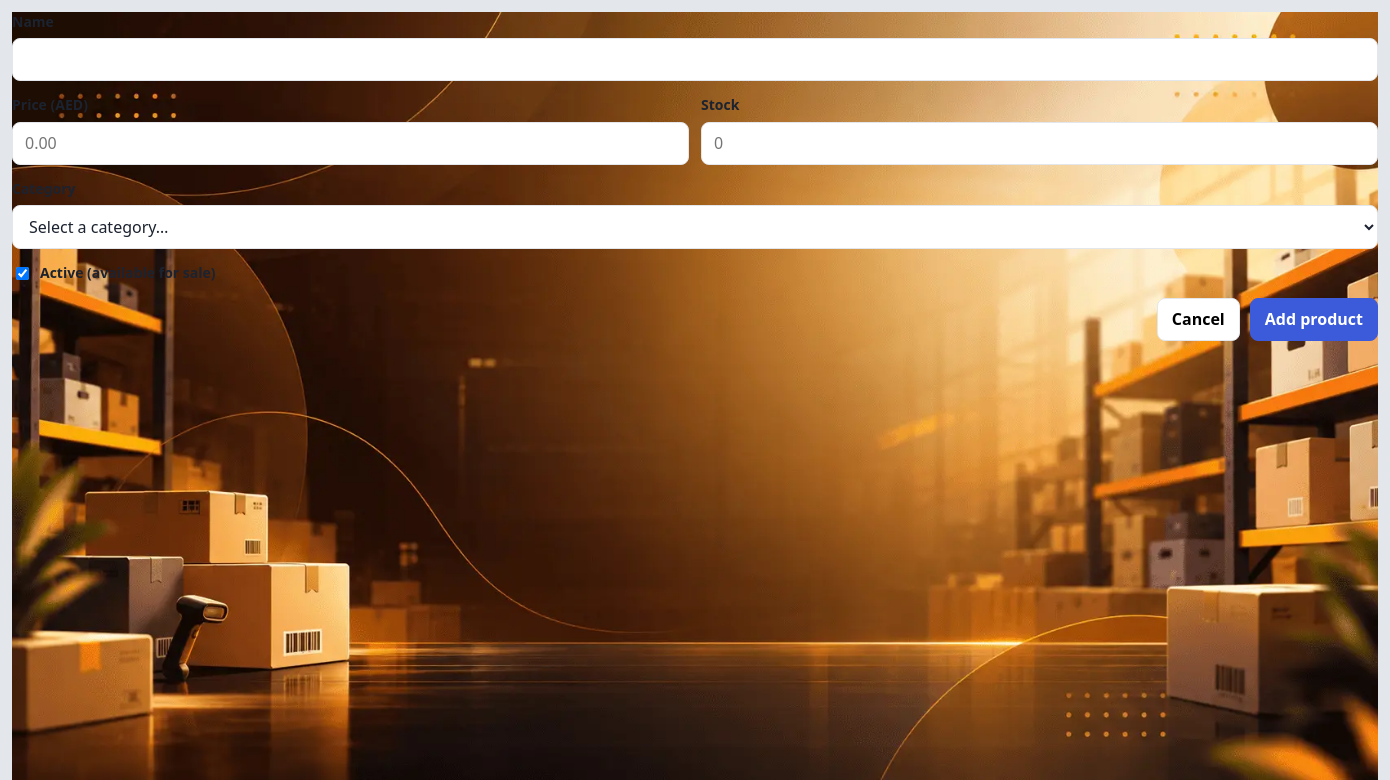
ProductForm › shows a general error when the network fails
The width and height of the screenshot is (1390, 780).
Type "Thing" into the field labelled "Name". click: point(695, 60)
box: [12,38,1378,82]
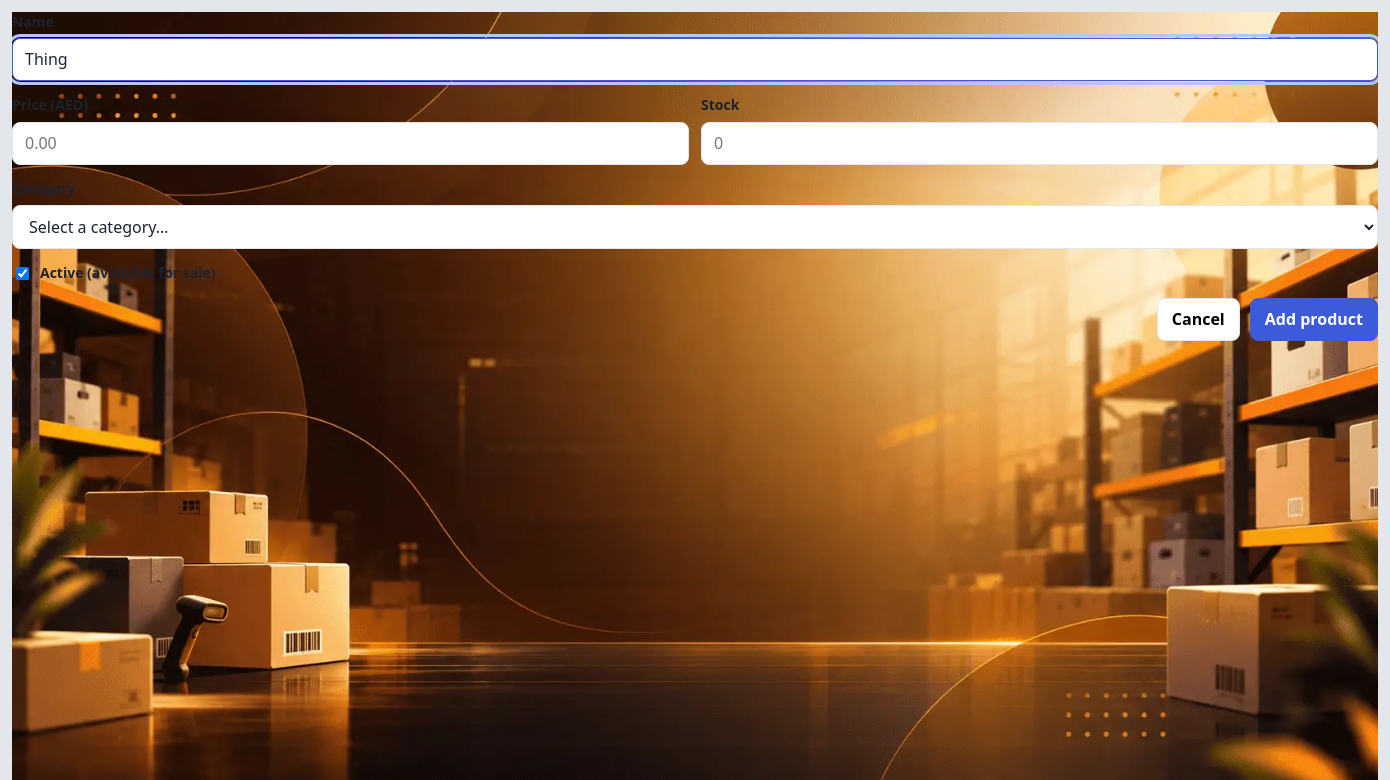
Type "5" into the field labelled "Price (AED)". click: point(350, 143)
box: [12,122,689,165]
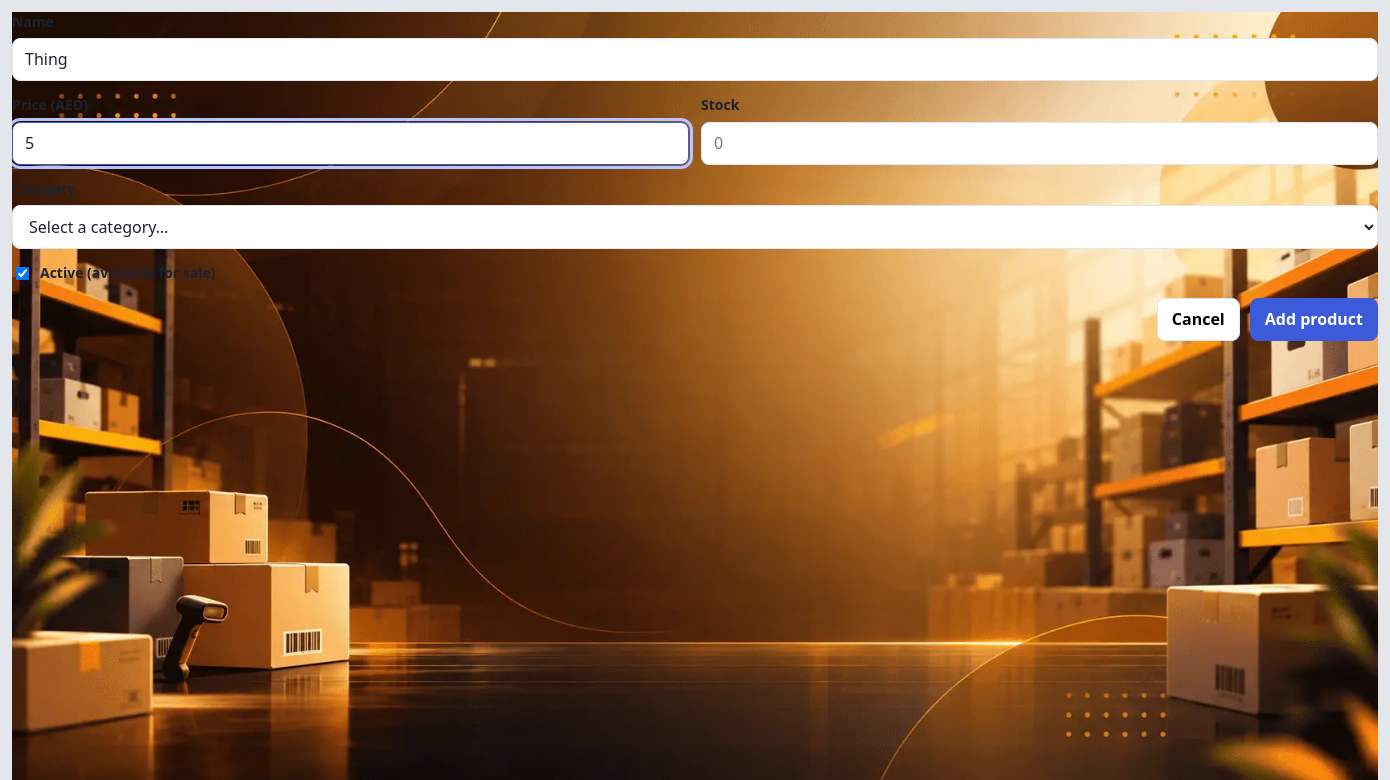
Type "1" into the field labelled "Stock". click: point(1040, 143)
box: [701,122,1378,165]
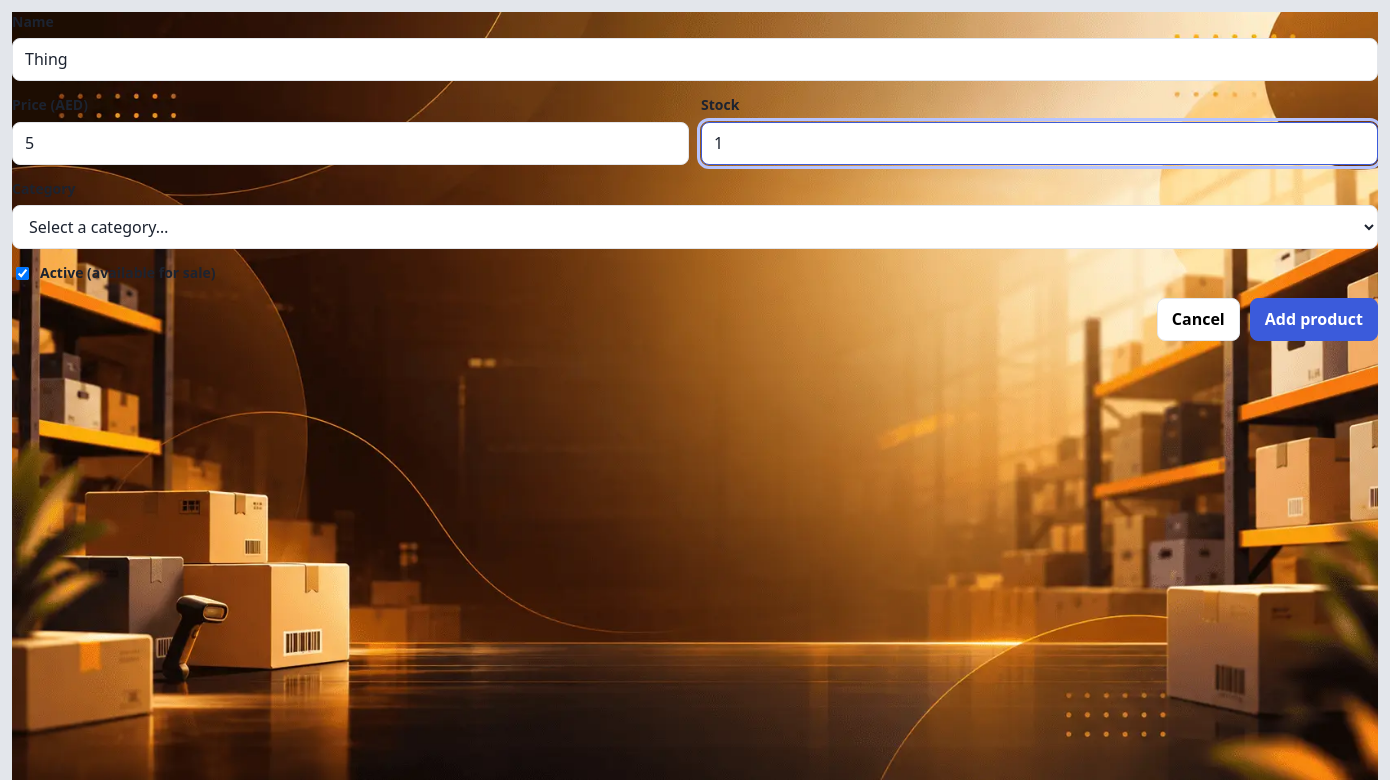
Select "Electronics" in the dropdown labelled "Category". click: point(695, 227)
box: [12,205,1378,249]
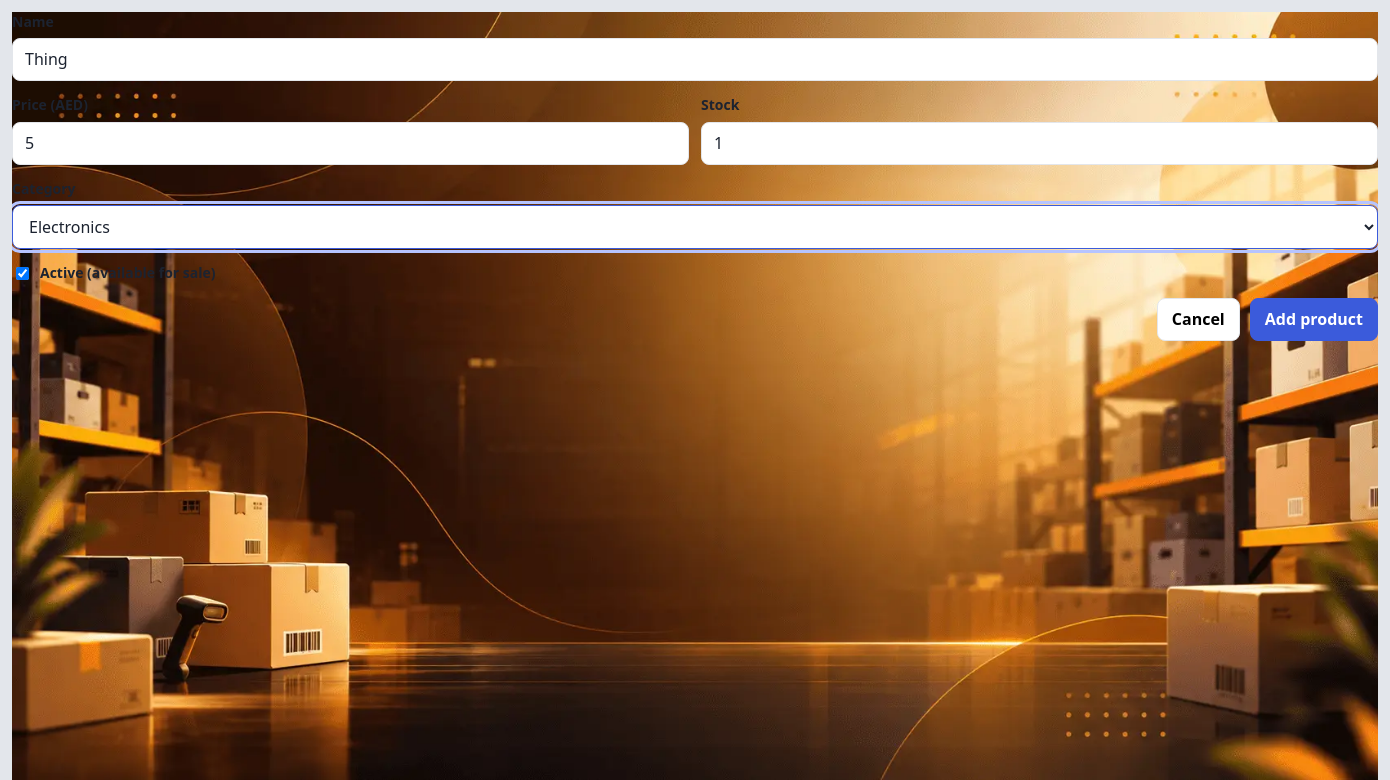
Click the button "Add product". click: point(1314, 319)
box: [1250,298,1378,341]
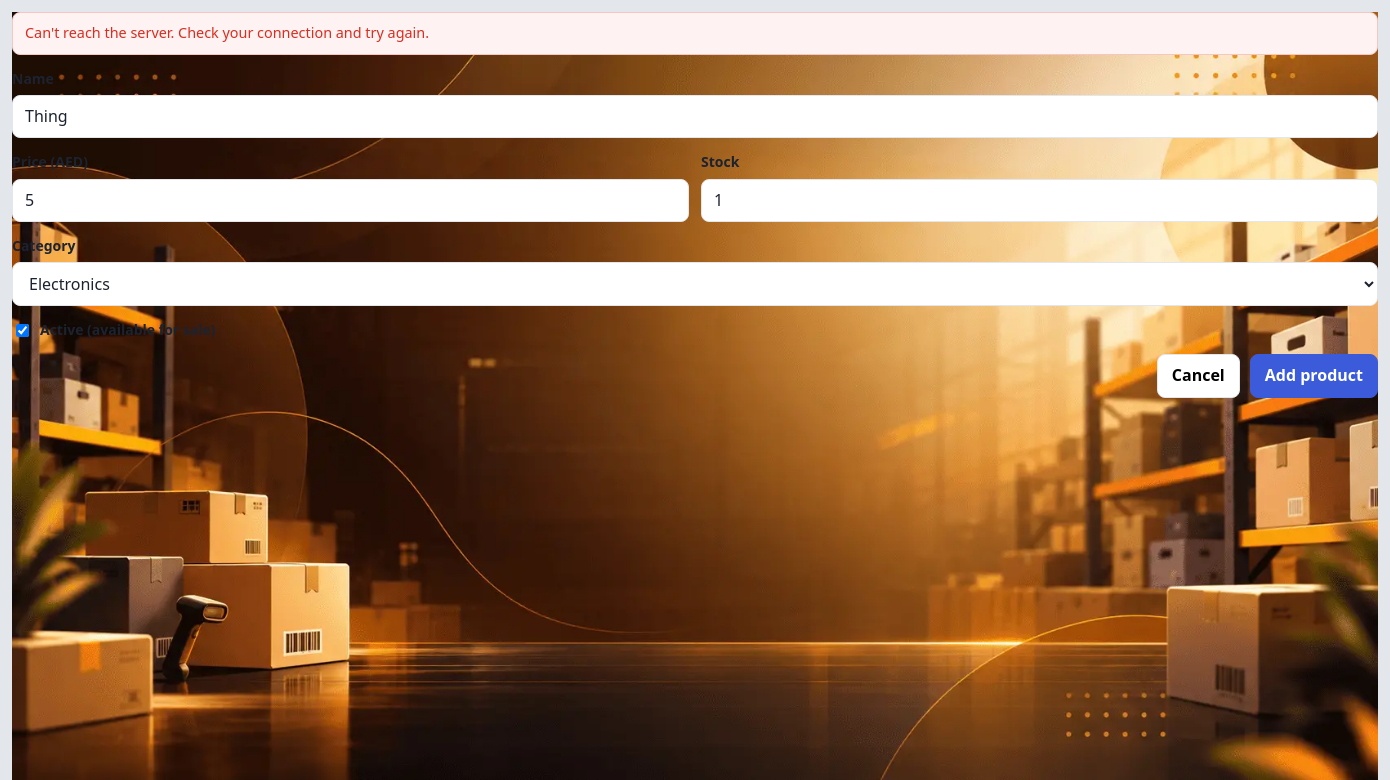
Check: the text "Can't reach the server. Check your connection and try again." is shown, box [12,12,1378,55]
